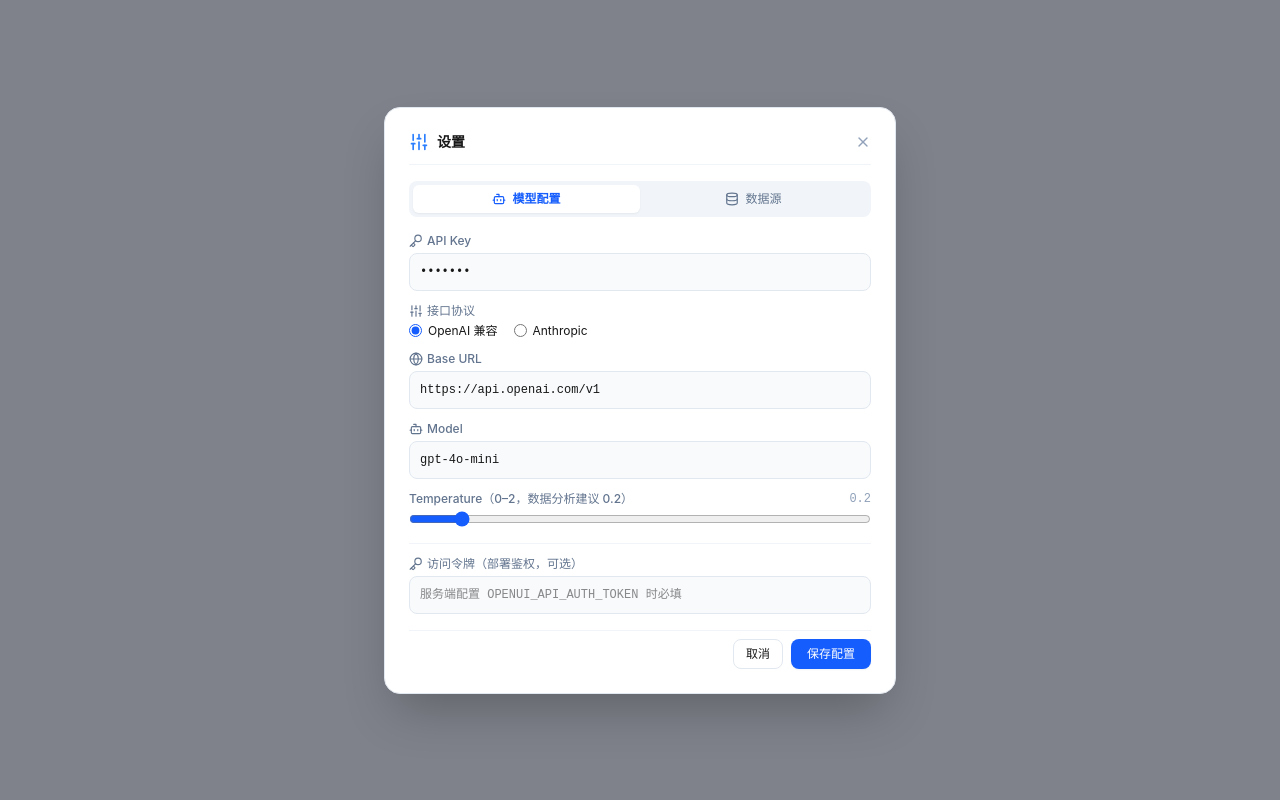
Scenario: SettingsModal tab 布局 › 点击「数据源」tab 切换面板，展示数据源列表与探活状态
This screenshot has width=1280, height=800.
What coordinates should you click on to do the following:
click the tab "数据源"
I would click on:
 (754, 198)
Its box is [640, 184, 867, 212].
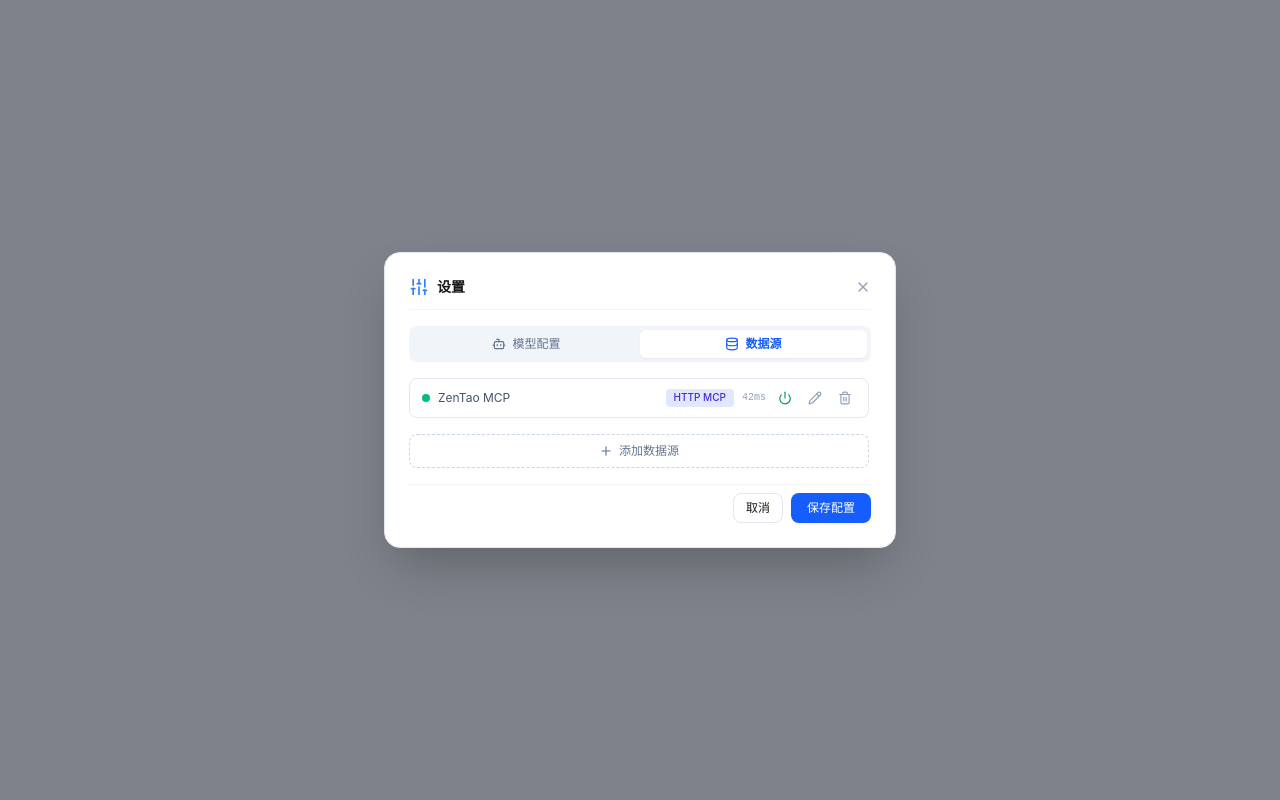
Expected: the text "ZenTao MCP" is shown, [438, 390, 510, 405]
Expected: the text "42ms" is shown, [742, 391, 766, 405]
Expected: the button "添加数据源" is shown, [409, 434, 869, 468]
